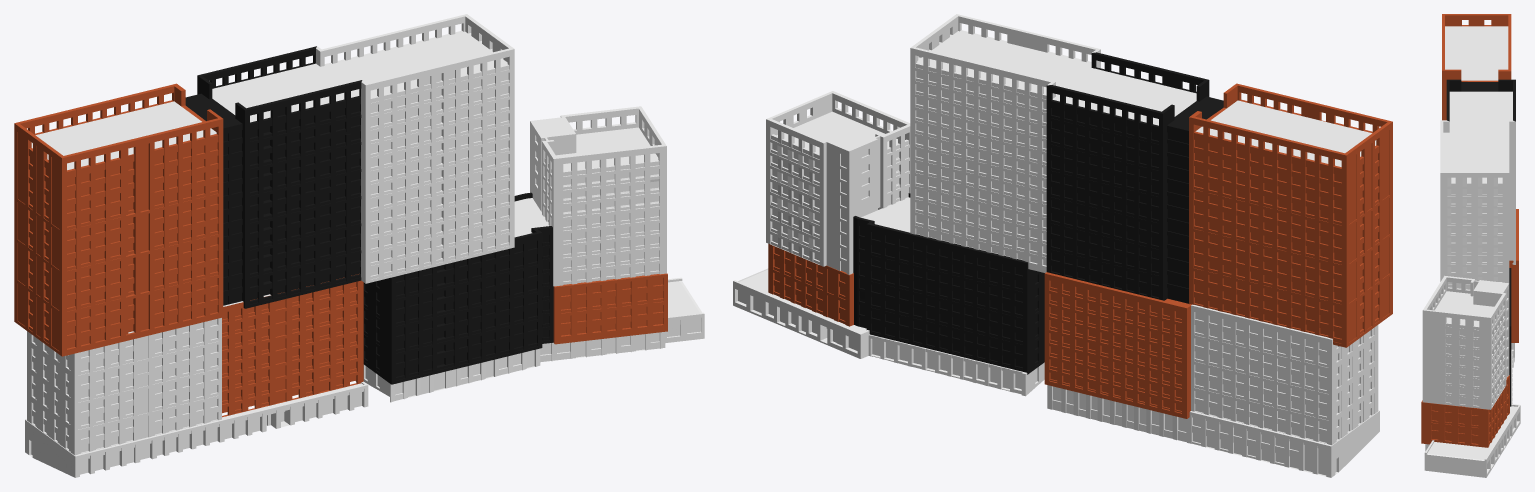
3 views of the same model, side by side, from view 1: azimuth 30°, elevation 25°; view 2: azimuth 150°, elevation 25°; view 3: azimuth 270°, elevation 25° (orthographic). The views are drawn at different scales.
Visible parts, largest first — view 1: Plane001, Plane005, Plane_1, Plane004_2, Plane004_1, Cube002, Plane006, Plane004, Plane, Plane_2; view 2: Plane001, Plane_1, Plane004_2, Plane005, Plane004_1, Cube002, Plane006, Plane, Plane004, Plane_2; view 3: Plane001, Plane005, Plane004, Plane006, Plane004_1, Plane_1, Plane.
Part boxes in pixels (bbox=[...]): Plane001: bbox=[14, 14, 514, 356]; Plane005: bbox=[530, 106, 666, 286]; Plane_1: bbox=[363, 192, 553, 384]; Plane004_2: bbox=[27, 294, 270, 455]; Plane004_1: bbox=[222, 273, 363, 417]; Cube002: bbox=[25, 381, 368, 477]; Plane006: bbox=[363, 277, 704, 402]; Plane004: bbox=[553, 273, 667, 344]; Plane: bbox=[185, 93, 242, 305]; Plane_2: bbox=[514, 198, 549, 237]; Plane001: bbox=[910, 14, 1392, 347]; Plane_1: bbox=[853, 193, 1044, 374]; Plane004_2: bbox=[1191, 304, 1378, 445]; Plane005: bbox=[766, 91, 910, 274]; Plane004_1: bbox=[1044, 272, 1191, 418]; Cube002: bbox=[1047, 385, 1379, 477]; Plane006: bbox=[733, 268, 1044, 396]; Plane: bbox=[1167, 96, 1223, 303]; Plane004: bbox=[768, 244, 853, 326]; Plane_2: bbox=[861, 197, 910, 232]; Plane001: bbox=[1440, 14, 1515, 289]; Plane005: bbox=[1422, 275, 1509, 409]; Plane004: bbox=[1421, 375, 1509, 447]; Plane006: bbox=[1424, 349, 1520, 477]; Plane004_1: bbox=[1509, 209, 1518, 342]; Plane_1: bbox=[1509, 268, 1511, 406]; Plane: bbox=[1461, 81, 1498, 90].
Bounding box in the file's own units: 151 × 73.92 × 27.67.
